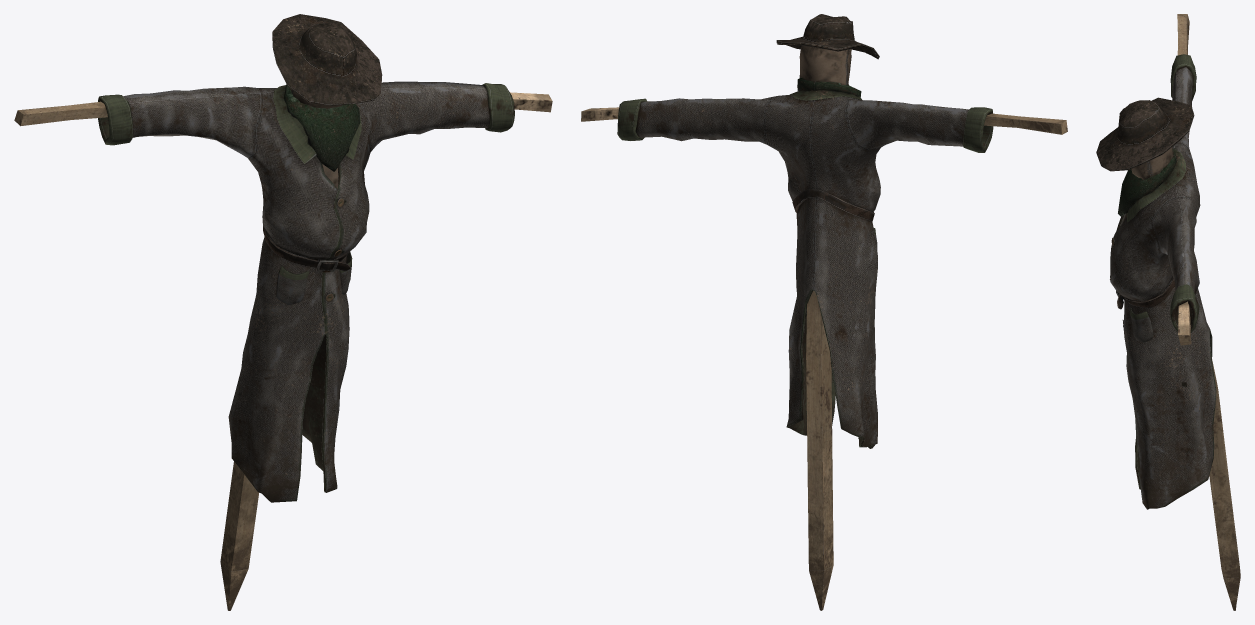
The picture shows the model from 3 angles, left to right: view 1: azimuth 30°, elevation 25°; view 2: azimuth 150°, elevation 25°; view 3: azimuth 270°, elevation 25°; orthographic projection. The views are drawn at different scales.
Parts seen in each view (by area): view 1: coat, hat, scarecrow_stake, scarf, belt; view 2: coat, scarecrow_stake, hat, sack_head, belt; view 3: coat, hat, scarecrow_stake, scarf, sack_head, belt.
Part boxes in pixels (x1=…): coat: x1=98, y1=81, x2=514, y2=502; hat: x1=272, y1=14, x2=382, y2=105; scarecrow_stake: x1=14, y1=92, x2=552, y2=610; scarf: x1=283, y1=84, x2=360, y2=171; belt: x1=263, y1=226, x2=350, y2=271; coat: x1=617, y1=90, x2=993, y2=448; scarecrow_stake: x1=581, y1=106, x2=1067, y2=610; hat: x1=776, y1=14, x2=879, y2=59; sack_head: x1=799, y1=45, x2=851, y2=85; belt: x1=792, y1=188, x2=874, y2=221; coat: x1=1110, y1=54, x2=1216, y2=509; hat: x1=1096, y1=97, x2=1194, y2=171; scarecrow_stake: x1=1177, y1=14, x2=1240, y2=610; scarf: x1=1118, y1=149, x2=1176, y2=216; sack_head: x1=1131, y1=147, x2=1172, y2=179; belt: x1=1117, y1=278, x2=1174, y2=309.
Size of the model in its own units: 0.0316 by 0.0345 by 0.00863.
Materials: 1 (1 with a texture image).
